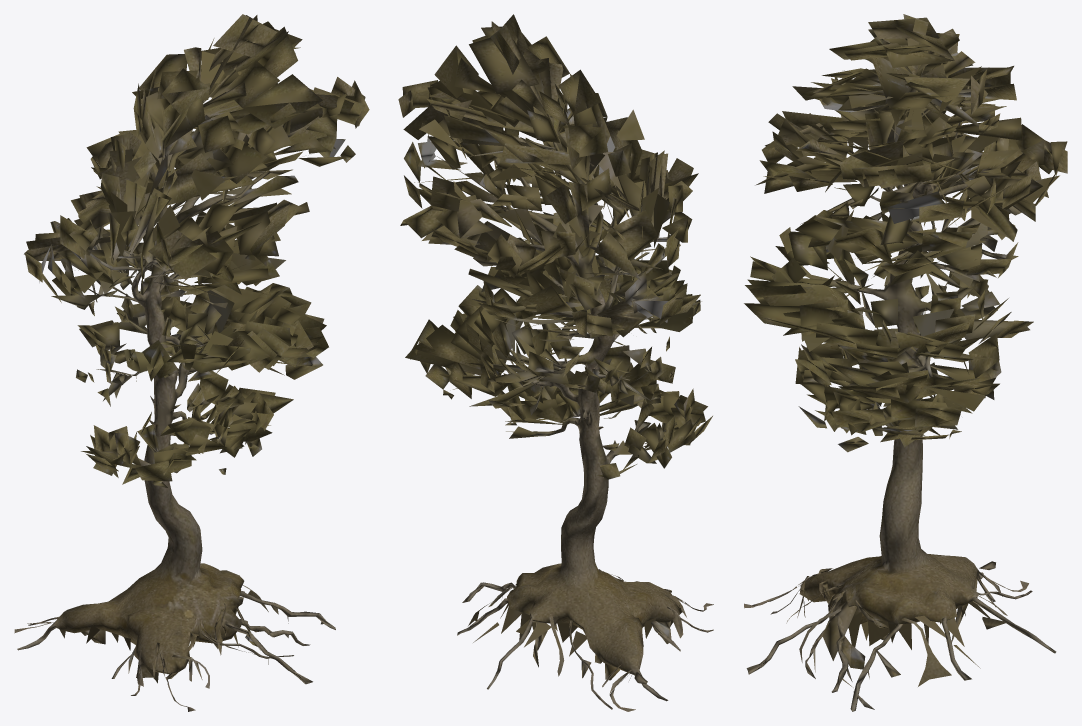
The model's file is nat-pine.fbx.
The picture shows the model from 3 angles, left to right: view 1: azimuth 30°, elevation 25°; view 2: azimuth 150°, elevation 25°; view 3: azimuth 270°, elevation 25°; orthographic projection. The views are drawn at different scales.
Visible parts, largest first — view 1: Mesh_0; view 2: Mesh_0; view 3: Mesh_0.
Boxes of the visible parts, bbox=[...] form: Mesh_0: bbox=[14, 14, 369, 711]; Mesh_0: bbox=[398, 14, 713, 711]; Mesh_0: bbox=[744, 14, 1067, 711].
Size of the model in its own units: 49.66 by 95.21 by 41.94.
1 material, 1 textured.
